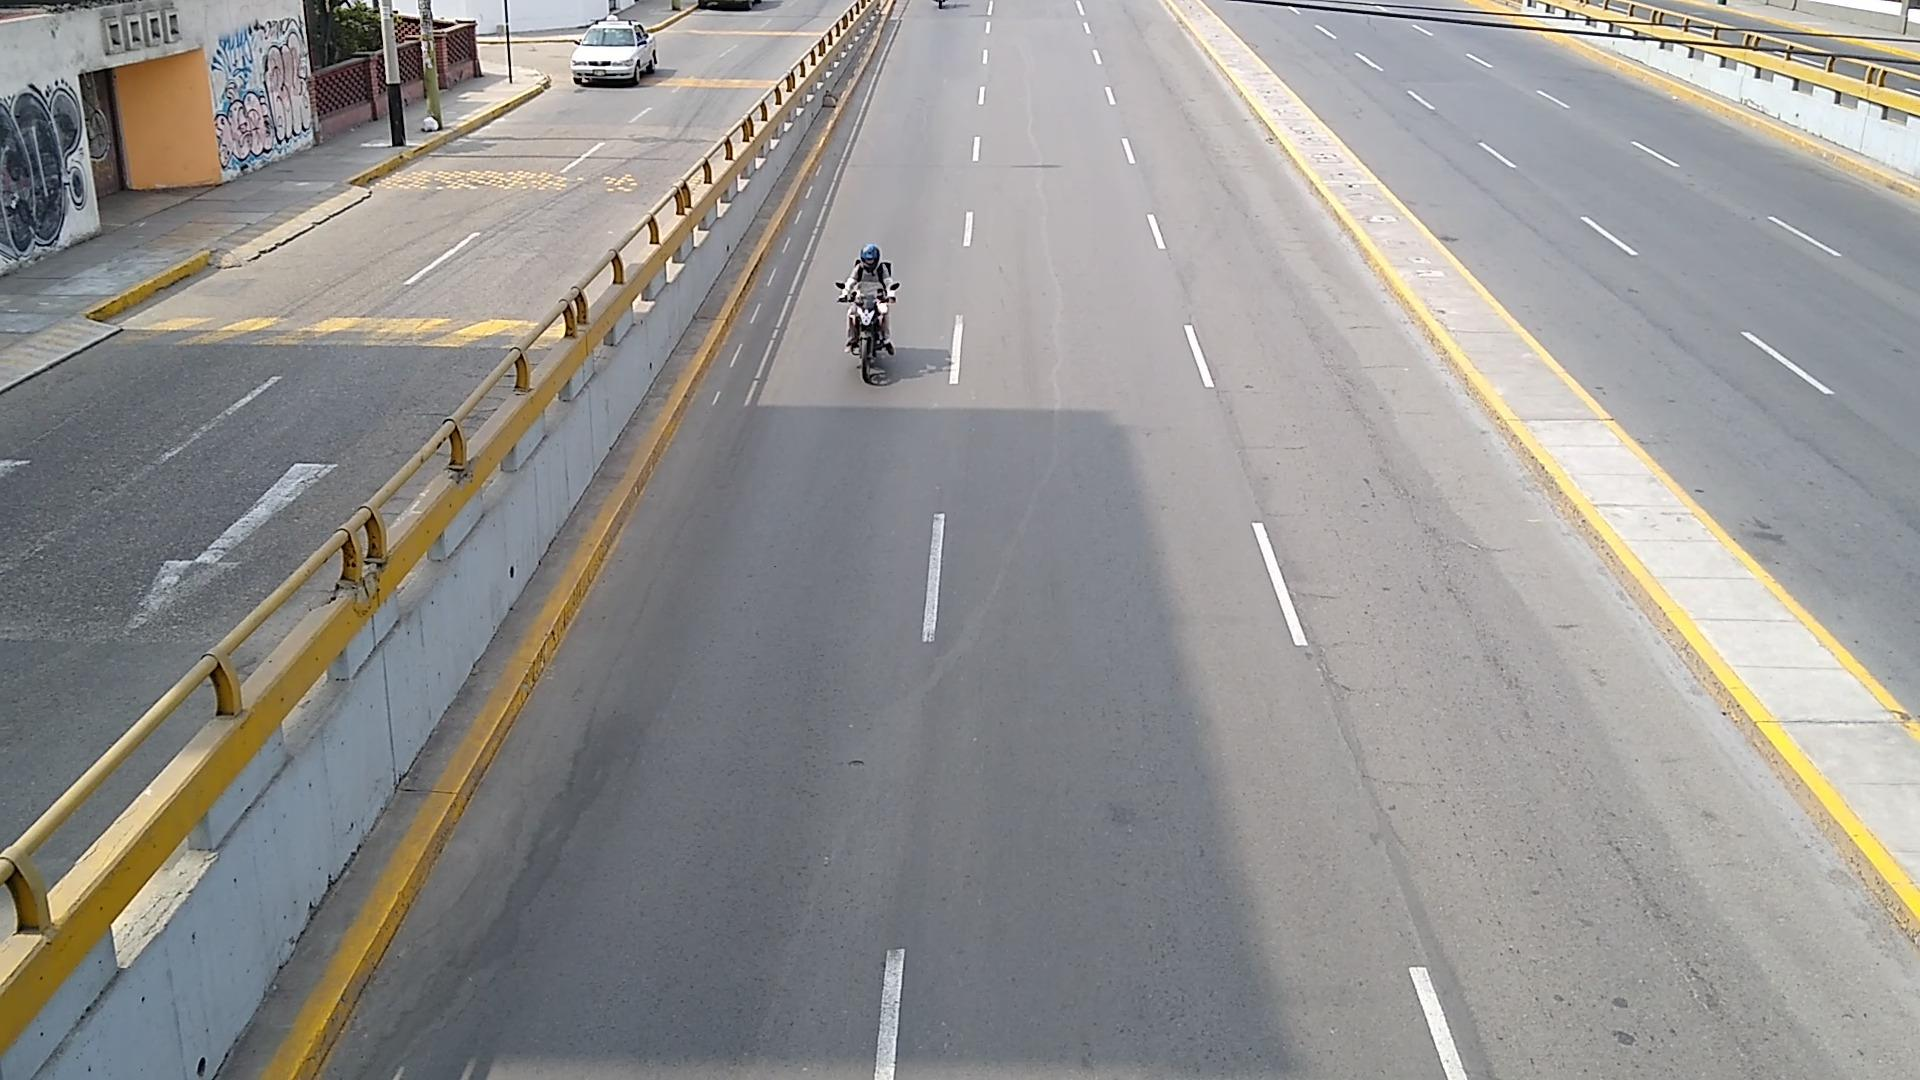car: (570, 18, 657, 86), (568, 22, 659, 86)
motorcyclist: (844, 244, 897, 294)
